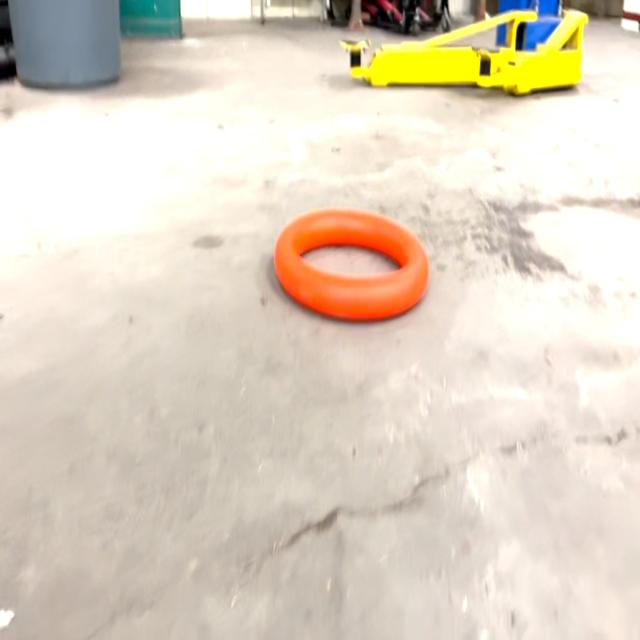note: (273, 206, 432, 329)
